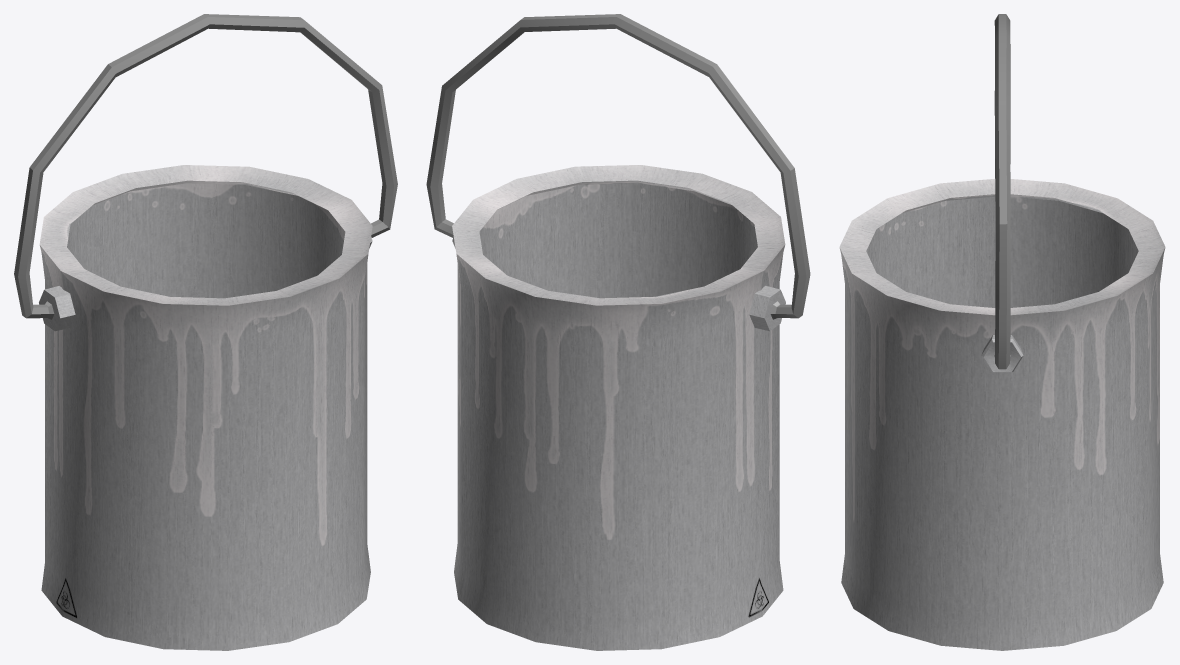
Rendered from Collectible_Bucket.fbx.
3 views of the same model, side by side, from view 1: azimuth 30°, elevation 25°; view 2: azimuth 150°, elevation 25°; view 3: azimuth 270°, elevation 25° (orthographic). The views are drawn at different scales.
Parts seen in each view (by area): view 1: paint bucket; view 2: paint bucket; view 3: paint bucket.
Part boxes in pixels (x1,y1,x2,y2): paint bucket: [14, 14, 397, 650]; paint bucket: [426, 14, 810, 650]; paint bucket: [839, 14, 1165, 650].
Bounding box in the file's own units: 86.85 × 125 × 66.53.
Materials: 1 (1 with a texture image).
